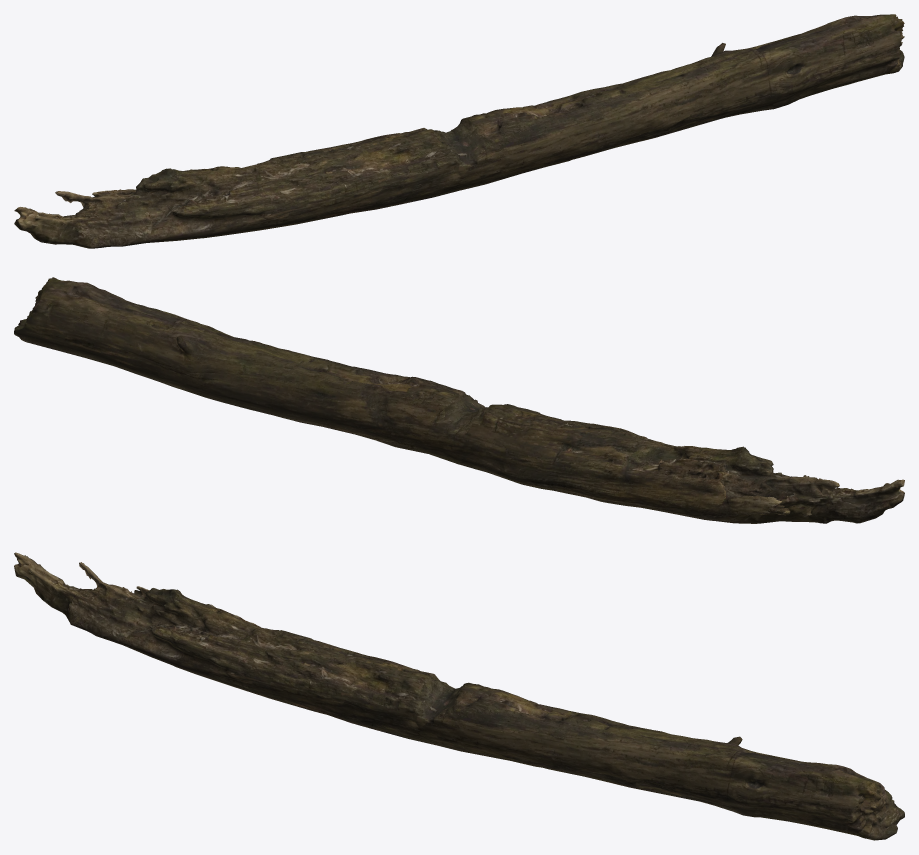
File: dead_tree_trunk.glb
3 views of the same model, one above another, from view 1: azimuth 30°, elevation 25°; view 2: azimuth 150°, elevation 25°; view 3: azimuth 330°, elevation 25° (orthographic).
Visible parts, largest first — view 1: dead_tree_trunk; view 2: dead_tree_trunk; view 3: dead_tree_trunk.
Part boxes in pixels (x1,y1,x2,y2): dead_tree_trunk: (14,14,904,248); dead_tree_trunk: (14,277,904,523); dead_tree_trunk: (14,552,904,840).
Size of the model in its own units: 3.05 by 0.2898 by 0.2771.
1 material, 1 textured.
